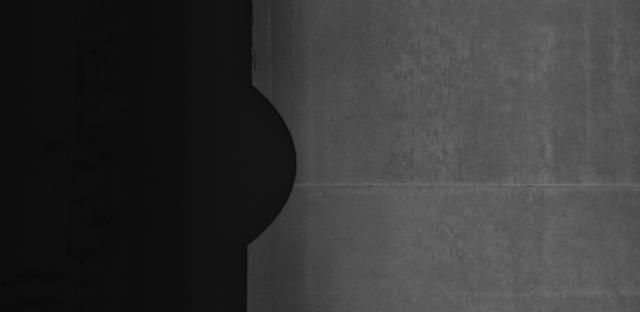crescent_gap: (216, 71, 306, 253)
welding_line: (281, 172, 634, 194)
